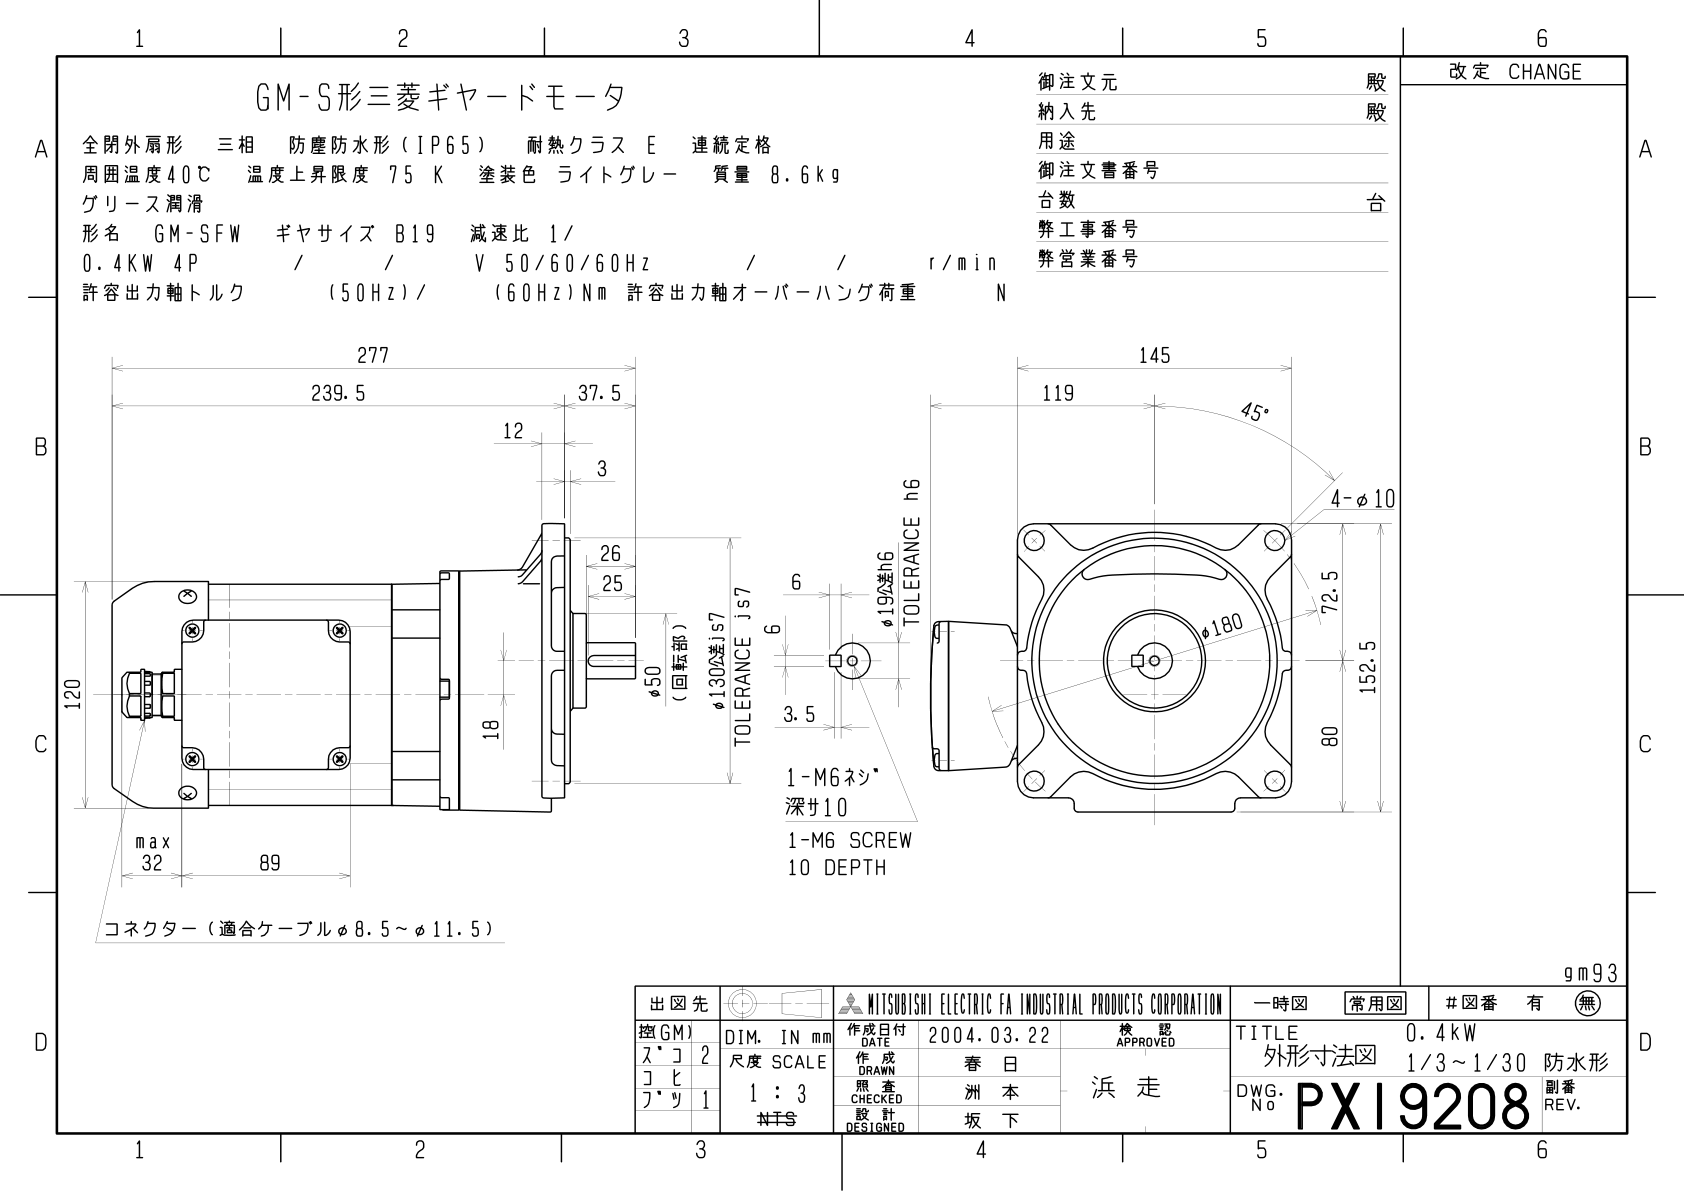GM_S_IP65＿三相_フランジ: (58, 315, 1397, 971)
